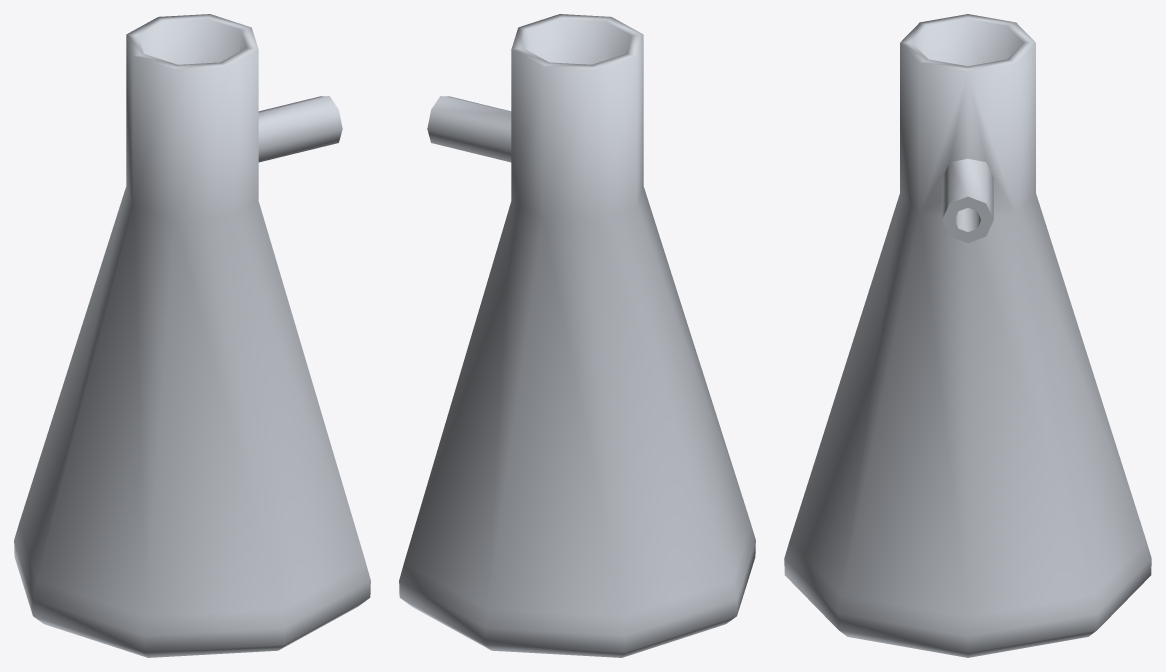
Rendered from bottle_glassware_filtering_flask_medium.glb.
3 views of the same model, side by side, from view 1: azimuth 30°, elevation 25°; view 2: azimuth 150°, elevation 25°; view 3: azimuth 270°, elevation 25° (orthographic).
Visible parts, largest first — view 1: bottle_glassware_filtering_flask_medium; view 2: bottle_glassware_filtering_flask_medium; view 3: bottle_glassware_filtering_flask_medium.
Part boxes in pixels (x1=…): bottle_glassware_filtering_flask_medium: x1=14, y1=14, x2=370, y2=657; bottle_glassware_filtering_flask_medium: x1=399, y1=14, x2=755, y2=657; bottle_glassware_filtering_flask_medium: x1=784, y1=14, x2=1151, y2=657.
Size of the model in its own units: 11.93 by 19.54 by 11.93.
Materials: 1 (1 with a texture image).
